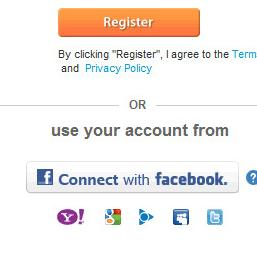button: (25, 160, 239, 193), (57, 7, 200, 38)
